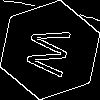W: (25, 25, 81, 80)
